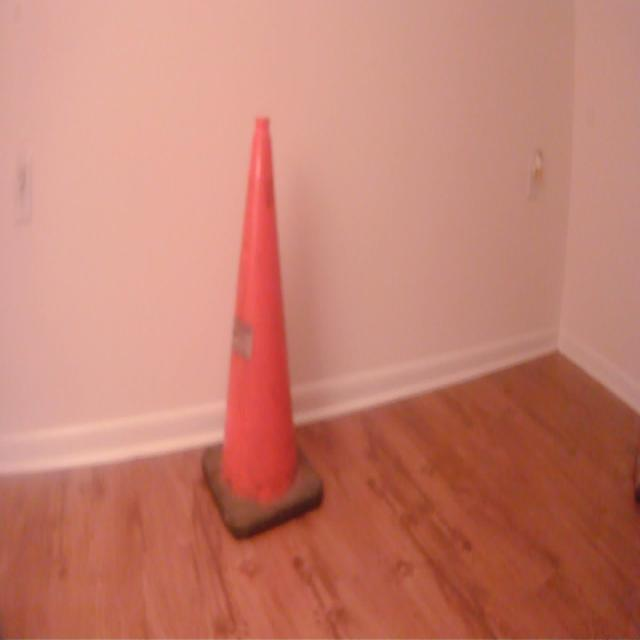traffic cone: (198, 106, 328, 544)
